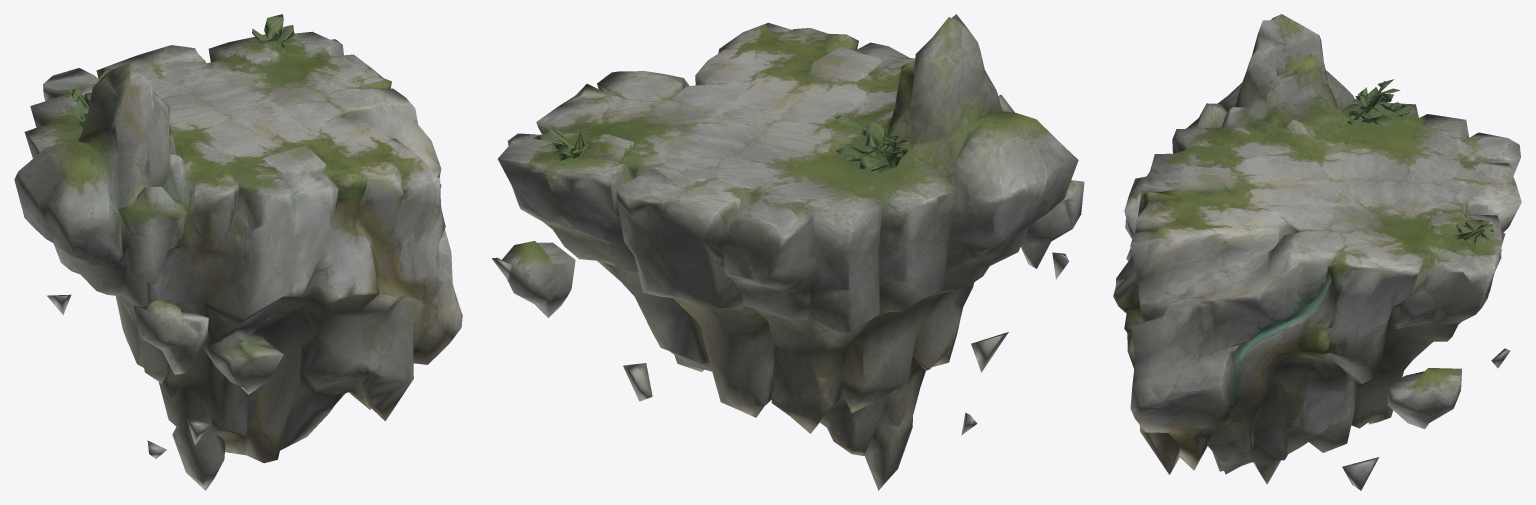
The model's file is prop_da_troi.4228b3d265.glb.
3 renders of one model, left to right at view 1: azimuth 30°, elevation 25°; view 2: azimuth 150°, elevation 25°; view 3: azimuth 270°, elevation 25°, orthographic. The views are drawn at different scales.
Visible parts, largest first — view 1: prop_da_troi; view 2: prop_da_troi; view 3: prop_da_troi.
Boxes of the visible parts, x1,y1,x2,y2 form: prop_da_troi: (14,14,462,490); prop_da_troi: (492,14,1084,490); prop_da_troi: (1113,14,1521,490).
Size of what is drawn, in the model's own units: 7.75 by 8 by 6.78.
Materials: 1 (1 with a texture image).
